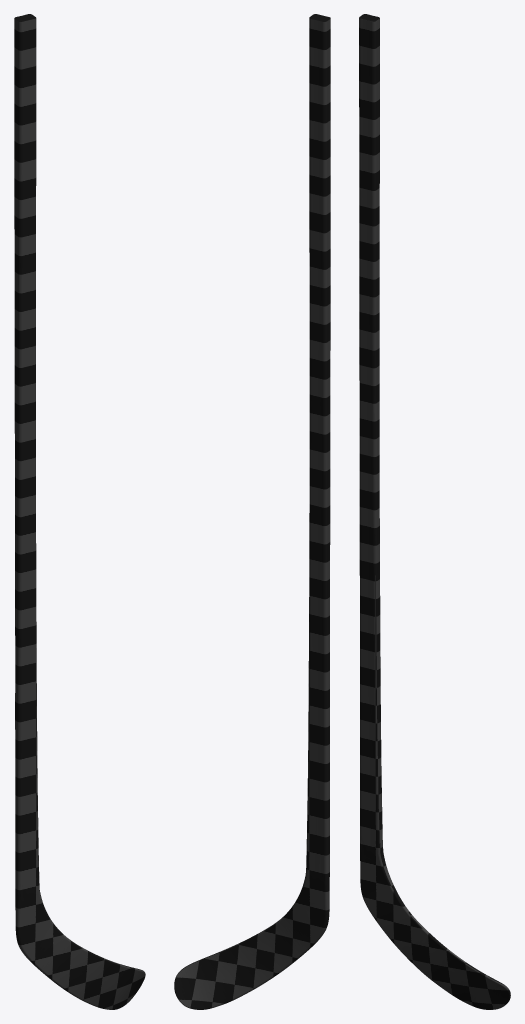
Rendered from P12-SBT.glb.
3 views of the same model, side by side, from view 1: azimuth 30°, elevation 25°; view 2: azimuth 150°, elevation 25°; view 3: azimuth 330°, elevation 25° (orthographic). The views are drawn at different scales.
Visible parts, largest first — view 1: geometry_0; view 2: geometry_0; view 3: geometry_0.
Part boxes in pixels (box(x1,y1,x2,y2)): geometry_0: box(14, 14, 145, 1009); geometry_0: box(174, 14, 330, 1009); geometry_0: box(359, 14, 510, 1009).
Bounding box in the file's own units: 240 × 1650 × 60.86.
Materials: 1 (1 with a texture image).
